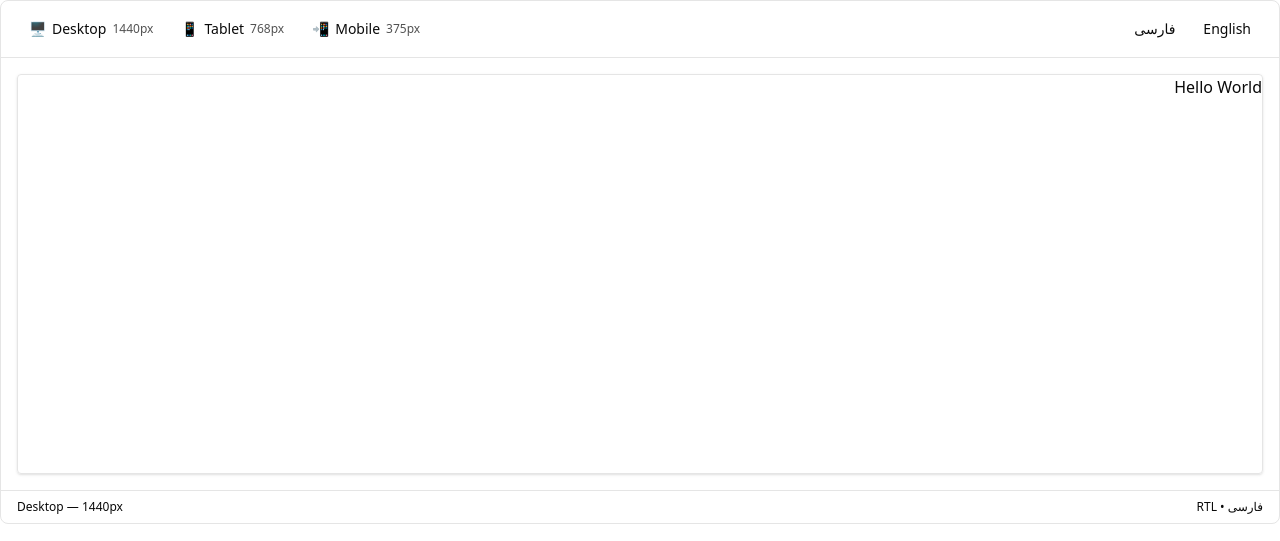
Test: PreviewPanel › switches to mobile width on mobile click
The image size is (1280, 541).
Click the radio button labelled "📲 Mobile 375px".
click(366, 29)  # box [300,13,432,45]
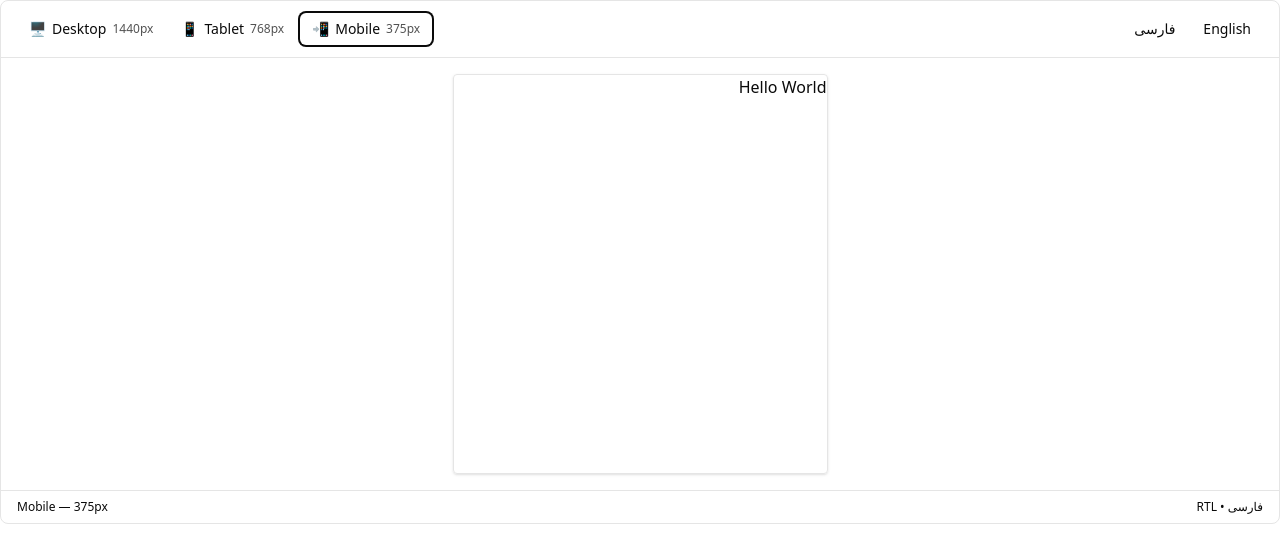
Expected: the text "Mobile — 375px" is shown, [17,499,108,515]
